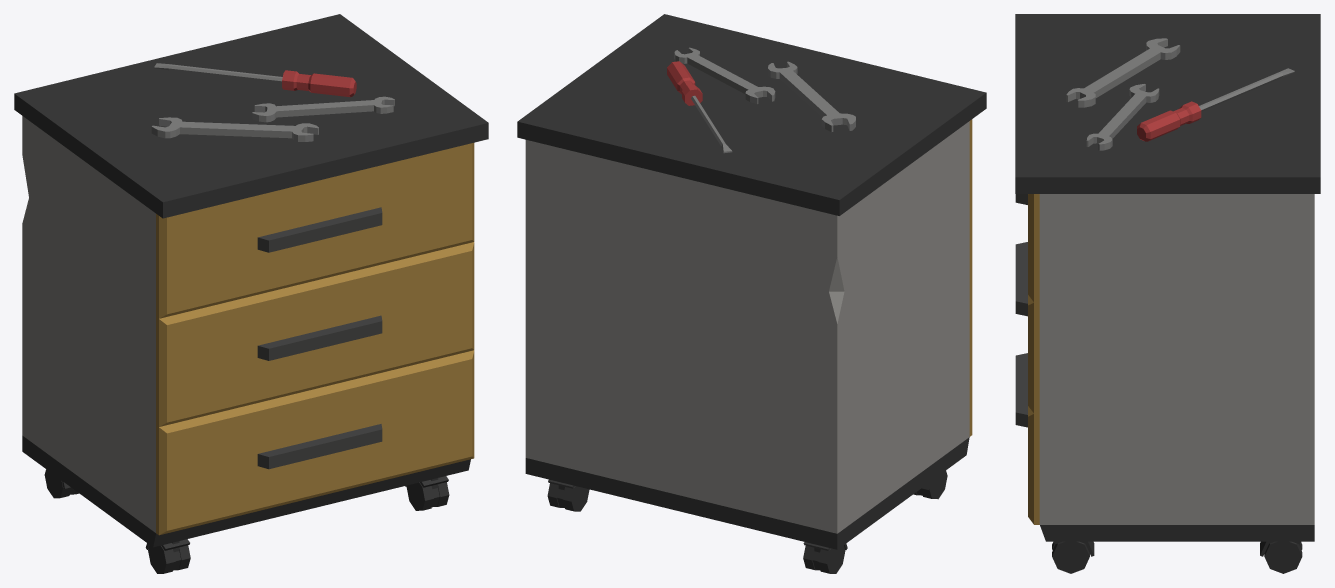
The model's file is SM_Props_Interior_Shop_AutoRepair_ToolBox.fbx.
The picture shows the model from 3 angles, left to right: view 1: azimuth 30°, elevation 25°; view 2: azimuth 150°, elevation 25°; view 3: azimuth 270°, elevation 25°; orthographic projection. The views are drawn at different scales.
Visible parts, largest first — view 1: SM_Props_Interior_Shop_AutoRepair_ToolBox; view 2: SM_Props_Interior_Shop_AutoRepair_ToolBox; view 3: SM_Props_Interior_Shop_AutoRepair_ToolBox.
Boxes of the visible parts, x1=… form: SM_Props_Interior_Shop_AutoRepair_ToolBox: x1=14, y1=14, x2=488, y2=573; SM_Props_Interior_Shop_AutoRepair_ToolBox: x1=517, y1=14, x2=986, y2=573; SM_Props_Interior_Shop_AutoRepair_ToolBox: x1=1015, y1=14, x2=1320, y2=573.
Size of the model in its own units: 63 by 76.19 by 49.8.
